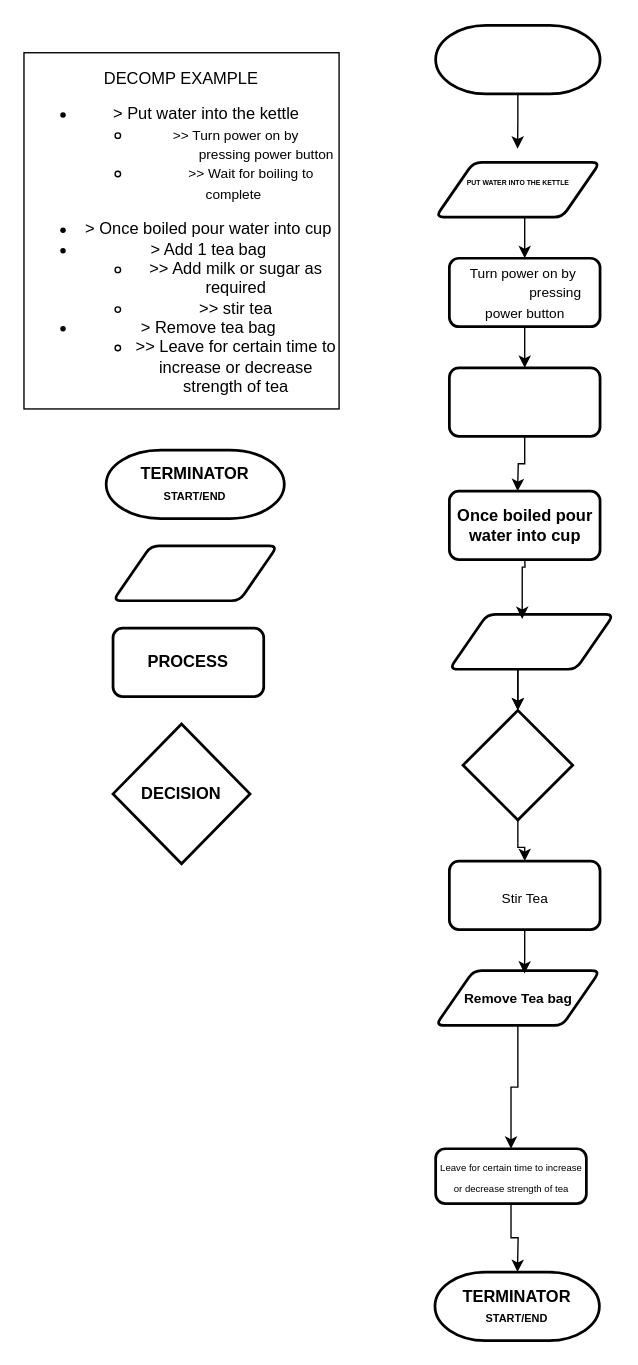
This 638x1365 diagram has some shape labels left out. Each missing label, with the centre of its shape:
"Add 1 tea bag" belongs at pixel 530 641.
"Add milk or sugar as required" belongs at pixel 517 764.
"INPUT/OUTPUT" belongs at pixel 194 572.
"START" belongs at pixel 517 59.
"Wait for boiling to complete" belongs at pixel 524 401.
